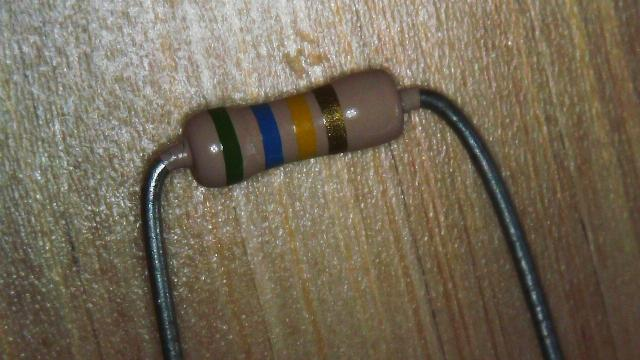blue: (251, 103, 284, 169)
gold: (314, 84, 347, 154)
green: (208, 108, 244, 184)
resistor: (149, 49, 429, 218)
yellow: (286, 94, 316, 160)
